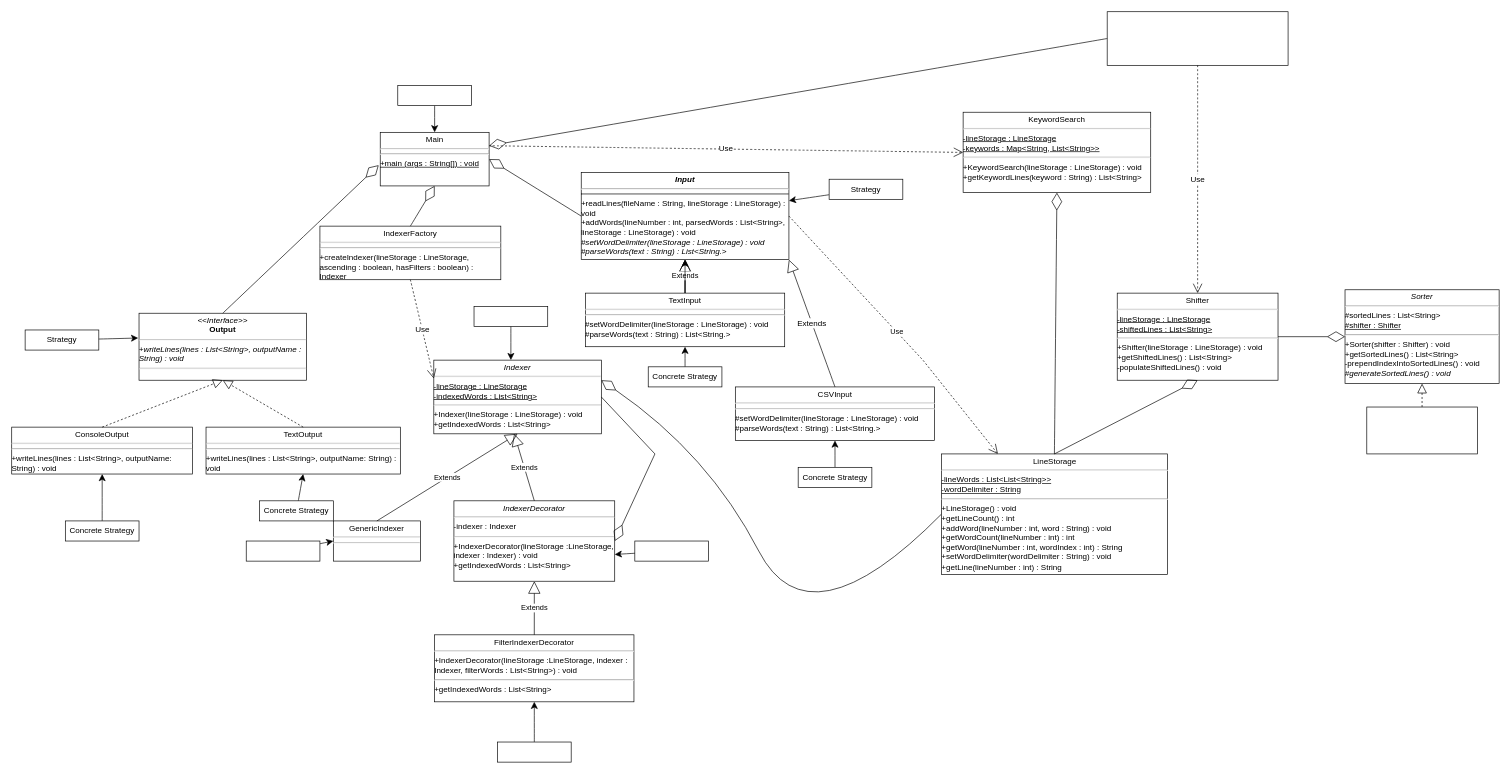
This 1511x774 diagram has some shape labels left out. Each missing label, with the centre of its shape:
"AlphabeticalSorter #generateSortedLines() : void" belongs at point 1421,430.
"Base Decorator" belongs at point 671,550.
"Component" belongs at point 510,316.
"Concrete Component" belongs at point 283,550.
"Concrete Decorator" belongs at point 534,751.
"Context" belongs at point 434,95.
"SorterFactory +createSorter(shifter : Shifter, ascending : boolean): Sorter" belongs at point 1197,38.
